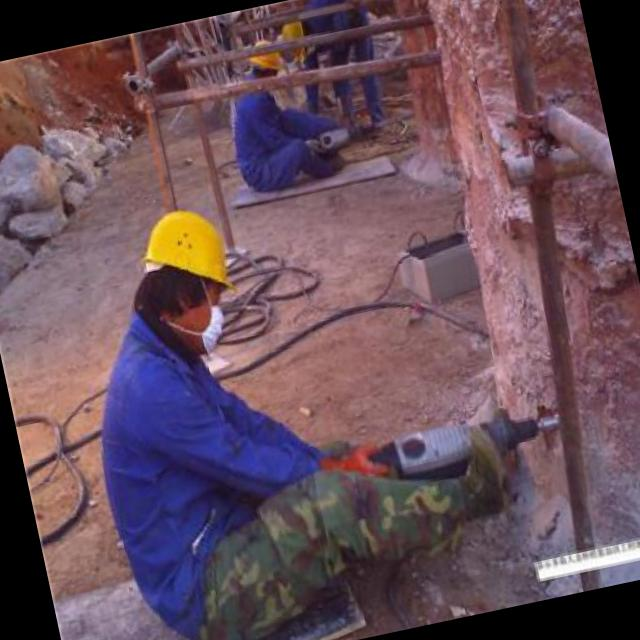helmet: (116, 186, 256, 350), (238, 36, 291, 96)
